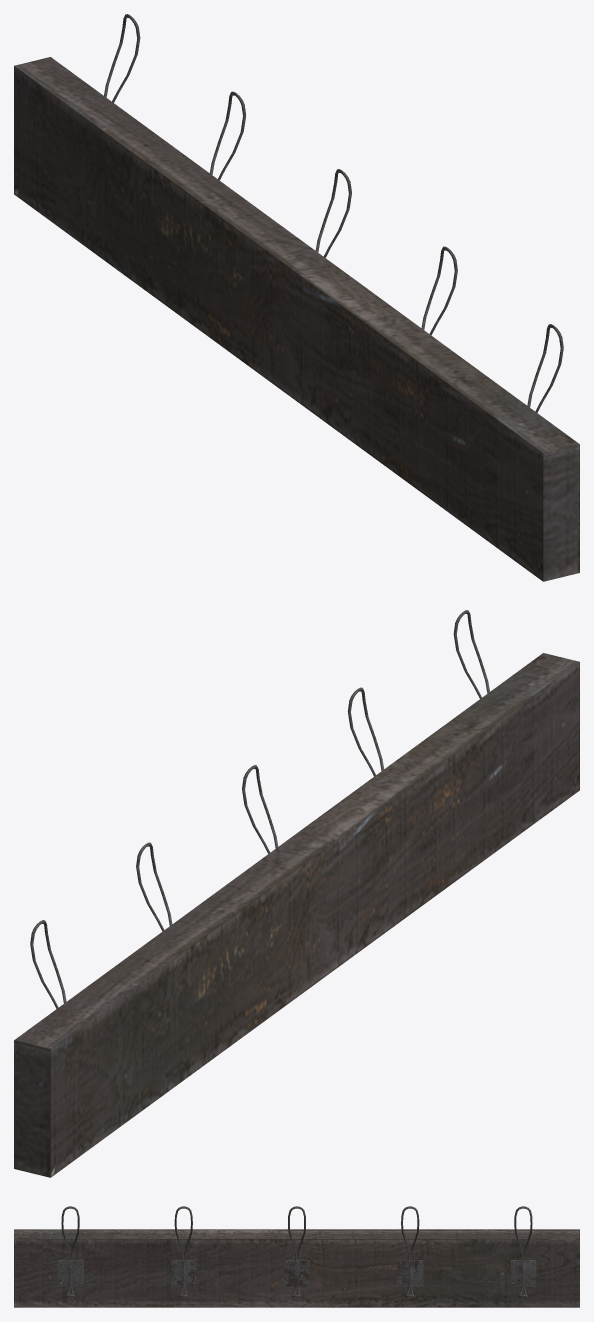
File: SM_HangerB.FBX
3 renders of one model, top to bottom at view 1: azimuth 30°, elevation 25°; view 2: azimuth 150°, elevation 25°; view 3: azimuth 270°, elevation 25°, orthographic. The views are drawn at different scales.
Visible parts, largest first — view 1: SM_HangerB_LOD0; view 2: SM_HangerB_LOD0; view 3: SM_HangerB_LOD0.
Boxes of the visible parts, box(x1,y1,x2,y2) form: SM_HangerB_LOD0: box(14, 14, 579, 581); SM_HangerB_LOD0: box(14, 610, 579, 1177); SM_HangerB_LOD0: box(14, 1206, 579, 1307).
Size of what is drawn, in the model's own units: 8.66 by 25.37 by 120.
